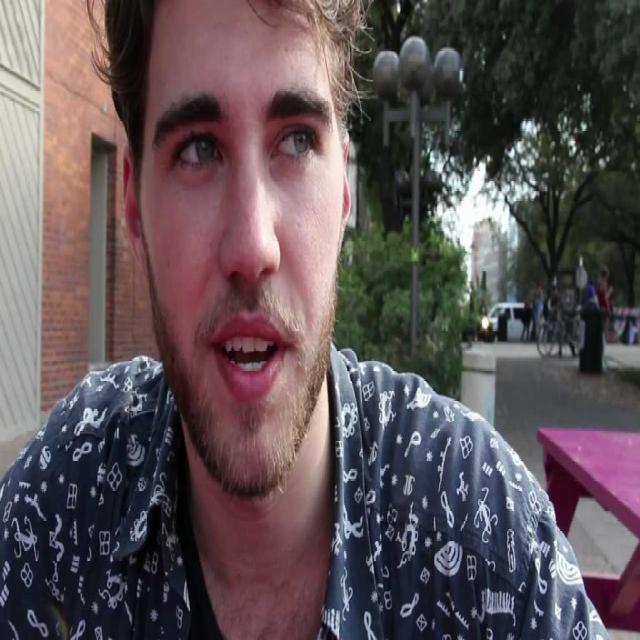Face: (134, 15, 347, 495)
